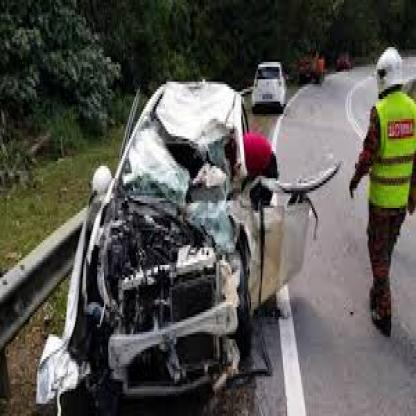accident: (41, 73, 321, 416)
